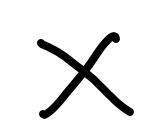mult: (37, 32, 134, 119)
